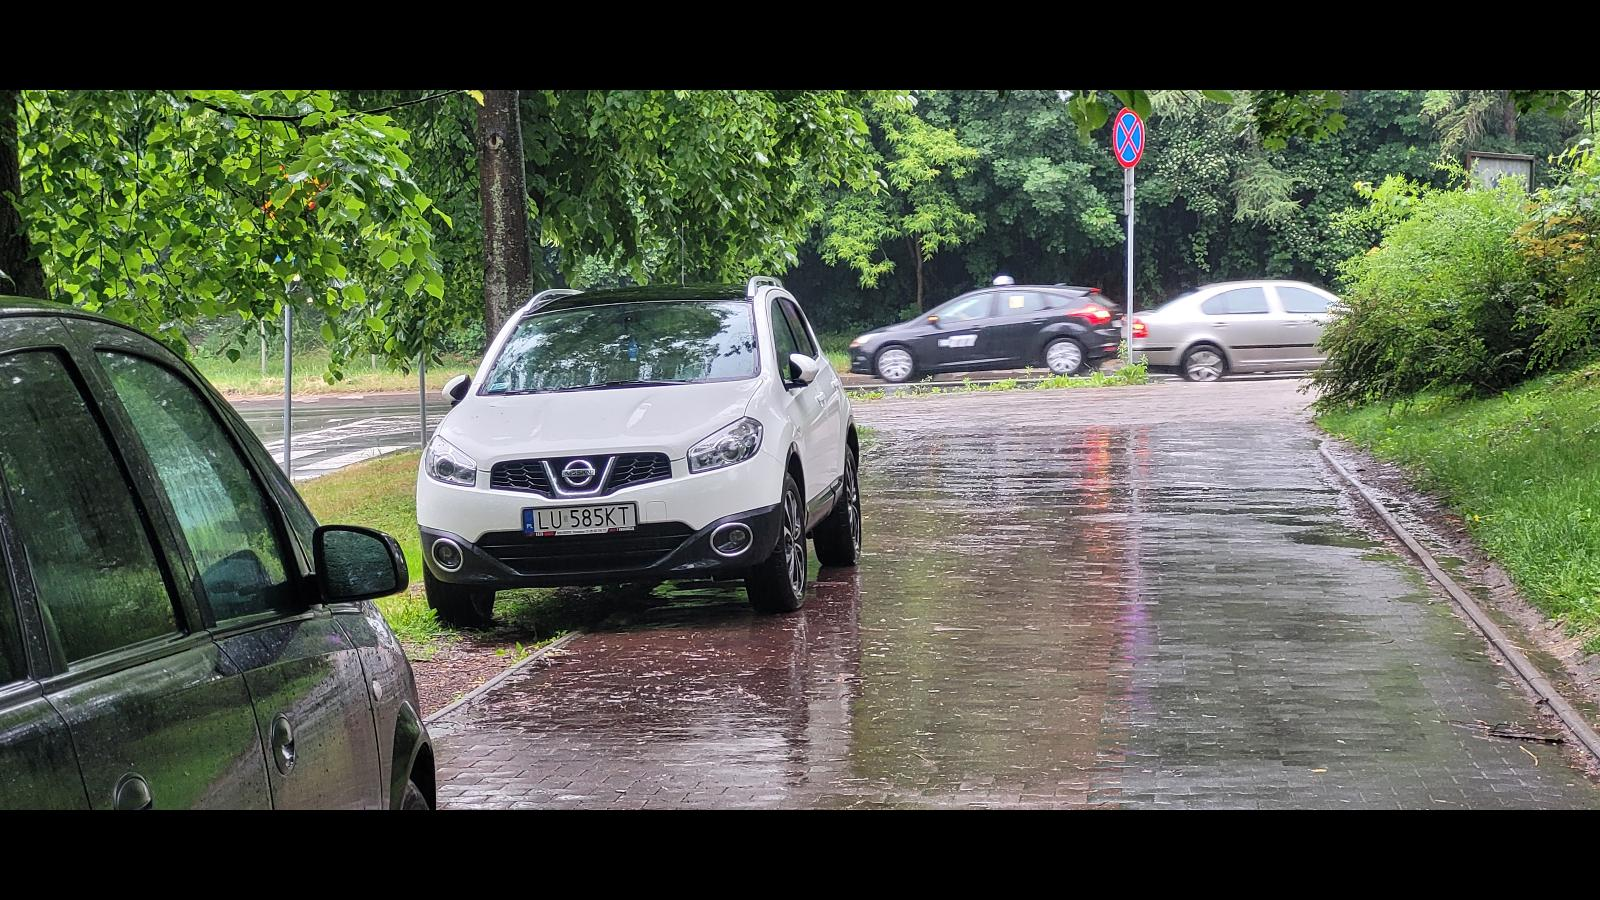plates: (522, 503, 638, 537)
